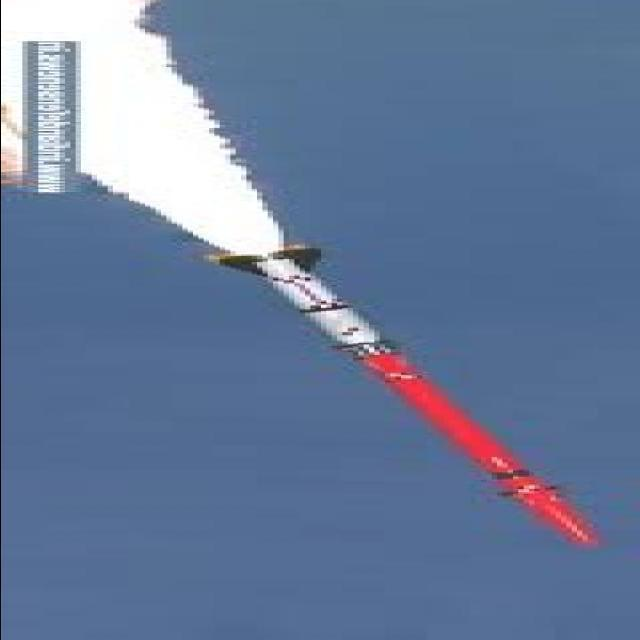missile: (207, 242, 598, 550)
